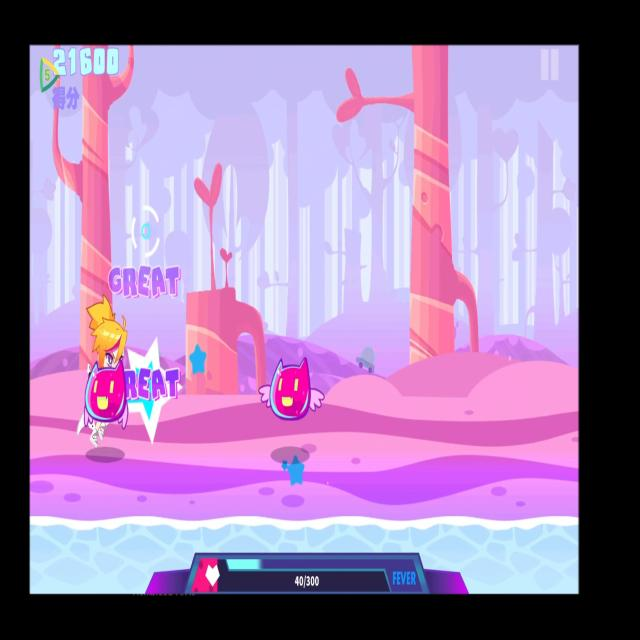mao: (258, 357, 326, 423)
